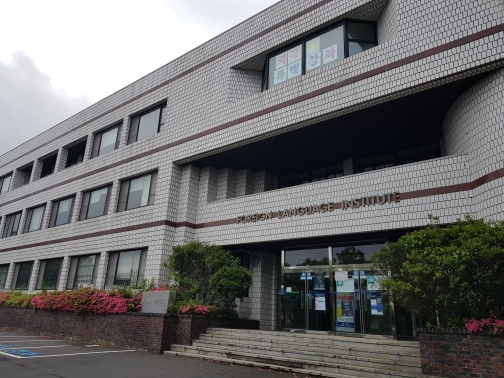Foreign Language Institute: (10, 8, 492, 363), (203, 178, 460, 368), (231, 8, 402, 94), (44, 169, 161, 229), (232, 189, 405, 226)
